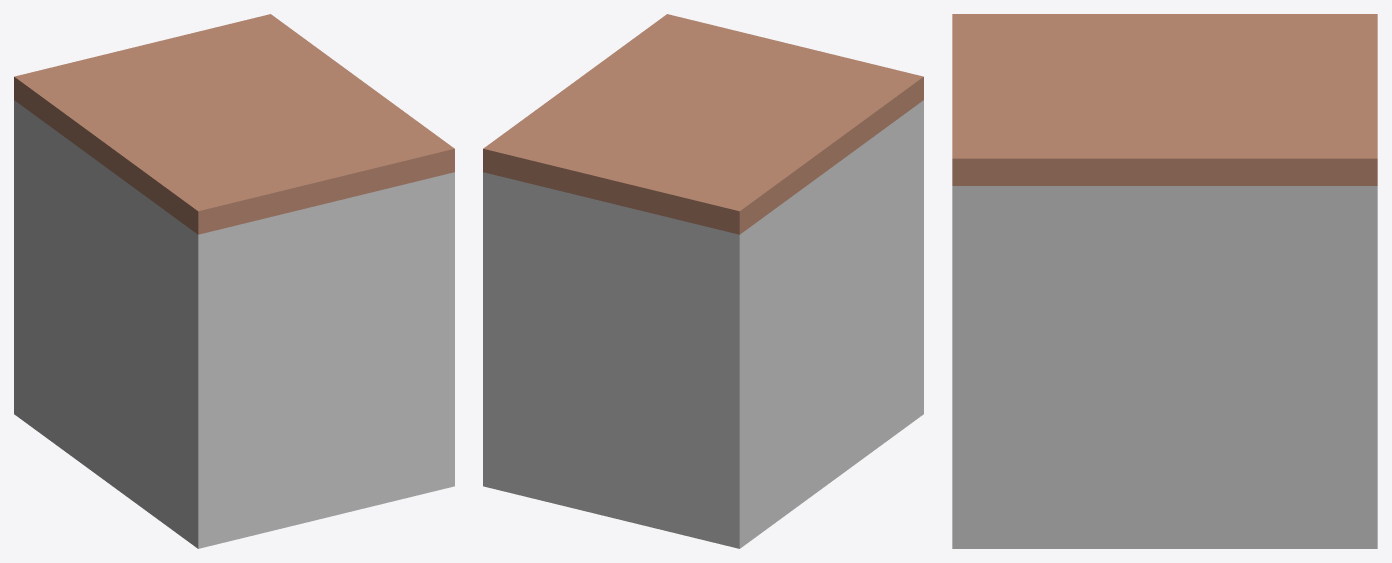
File: MorceauPlanTravail.fbx
3 views of the same model, side by side, from view 1: azimuth 30°, elevation 25°; view 2: azimuth 150°, elevation 25°; view 3: azimuth 270°, elevation 25° (orthographic). The views are drawn at different scales.
Parts seen in each view (by area): view 1: Cube.053; view 2: Cube.053; view 3: Cube.053.
Boxes of the visible parts, x1,y1,x2,y2 form: Cube.053: (14,14,454,548); Cube.053: (483,14,923,548); Cube.053: (952,14,1377,548).
Bounding box in the file's own units: 186 × 234 × 231.
